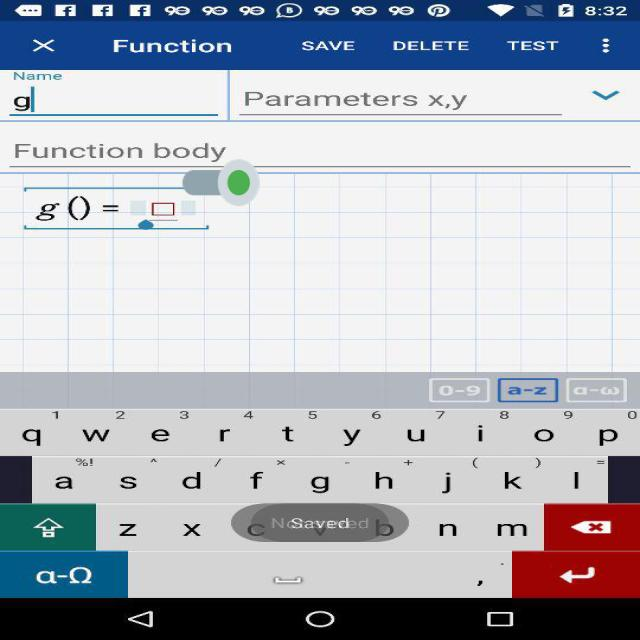social proof: (182, 139, 260, 226)
